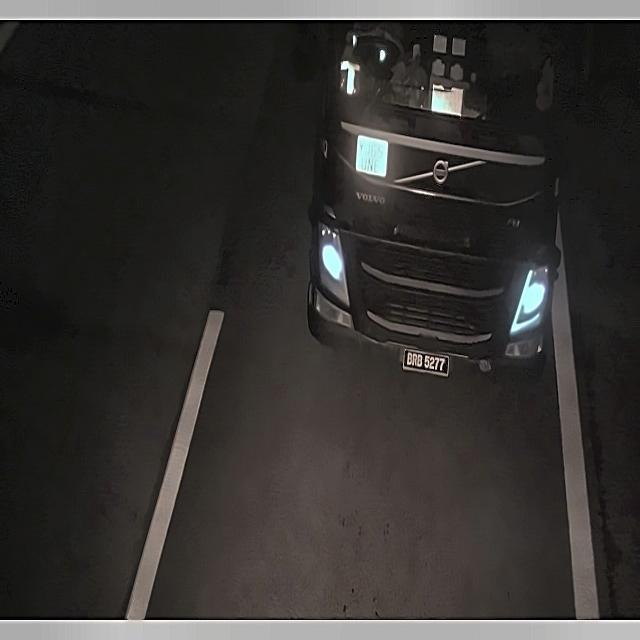car: (396, 340, 454, 383)
